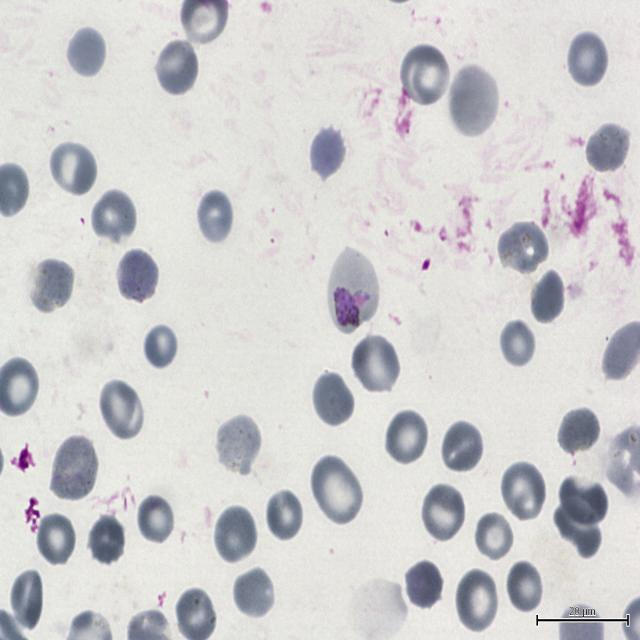red blood cell: (310, 455, 362, 526), (449, 64, 499, 136), (49, 434, 99, 505), (400, 41, 450, 108), (496, 217, 550, 277), (454, 567, 501, 635), (351, 332, 401, 395), (215, 412, 262, 478), (500, 459, 547, 524), (99, 379, 146, 442), (419, 482, 466, 544), (212, 504, 258, 566), (50, 140, 99, 198), (554, 501, 603, 559), (90, 188, 138, 245), (384, 408, 430, 467), (154, 38, 200, 97), (114, 247, 160, 306), (566, 29, 610, 90), (438, 418, 484, 475), (584, 120, 630, 176), (311, 370, 355, 428), (558, 474, 608, 524), (8, 567, 46, 632), (232, 565, 276, 620), (30, 256, 74, 311), (554, 406, 601, 457), (35, 511, 77, 567), (194, 188, 234, 245), (403, 558, 445, 612), (174, 586, 216, 640), (308, 126, 348, 182), (505, 559, 545, 614), (65, 26, 107, 78), (264, 488, 304, 542), (474, 510, 514, 564), (136, 492, 176, 546), (86, 514, 126, 566), (498, 318, 537, 368), (141, 320, 179, 371), (532, 275, 570, 324)
trophozoite: (328, 247, 381, 334)
